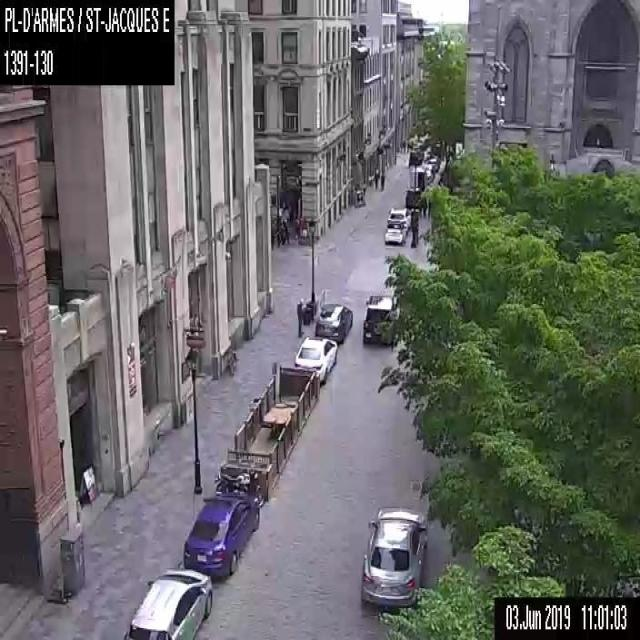pedestrian: (295, 296, 306, 336), (280, 216, 290, 244), (379, 171, 384, 190), (373, 171, 377, 190)
vehicle: (360, 504, 425, 613), (182, 493, 258, 577), (122, 569, 212, 639), (213, 464, 264, 507), (293, 336, 337, 384), (314, 302, 352, 344), (362, 294, 391, 346), (384, 219, 405, 245), (388, 206, 410, 228), (408, 167, 427, 191), (404, 187, 421, 211), (428, 157, 438, 171)
